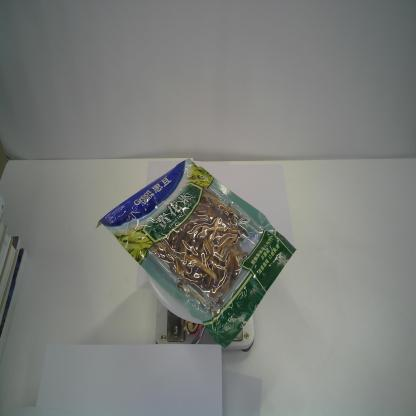Dried Food: (95, 156, 297, 350)
